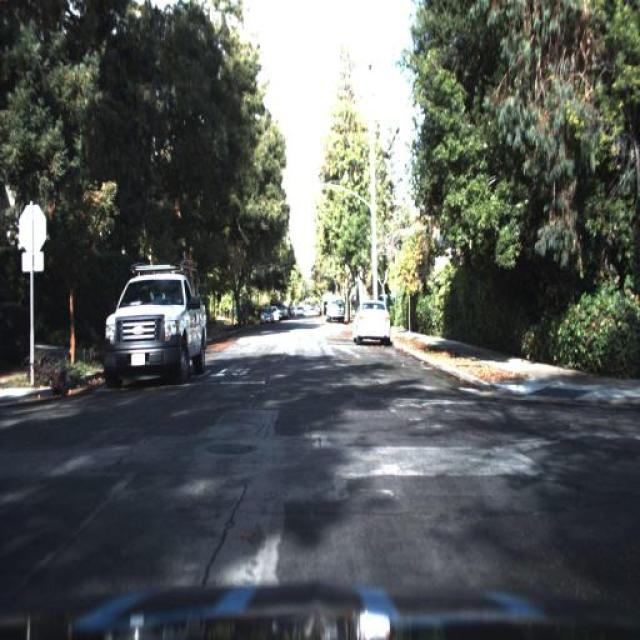car: (100, 264, 208, 394), (352, 296, 391, 346), (323, 290, 346, 322), (257, 306, 274, 329)
